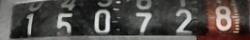digits: (174, 8, 193, 34), (93, 9, 111, 35), (214, 5, 232, 30), (135, 10, 151, 38), (56, 12, 73, 37), (25, 13, 34, 37)
